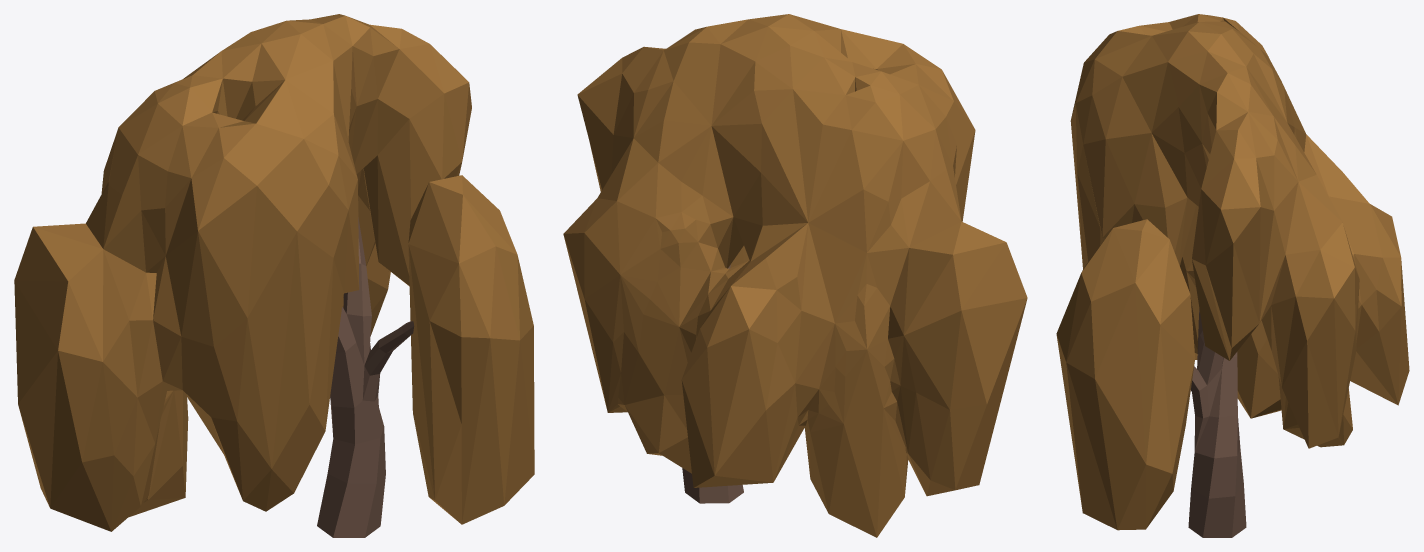
The model's file is SM_Willow_02.fbx.
The picture shows the model from 3 angles, left to right: view 1: azimuth 30°, elevation 25°; view 2: azimuth 150°, elevation 25°; view 3: azimuth 270°, elevation 25°; orthographic projection. The views are drawn at different scales.
Visible parts, largest first — view 1: SM_Willow_02; view 2: SM_Willow_02; view 3: SM_Willow_02.
Boxes of the visible parts, x1=… form: SM_Willow_02: x1=14, y1=14, x2=534, y2=537; SM_Willow_02: x1=563, y1=14, x2=1027, y2=537; SM_Willow_02: x1=1056, y1=14, x2=1409, y2=537.
Size of the model in its own units: 1612 by 1744 by 1193.
